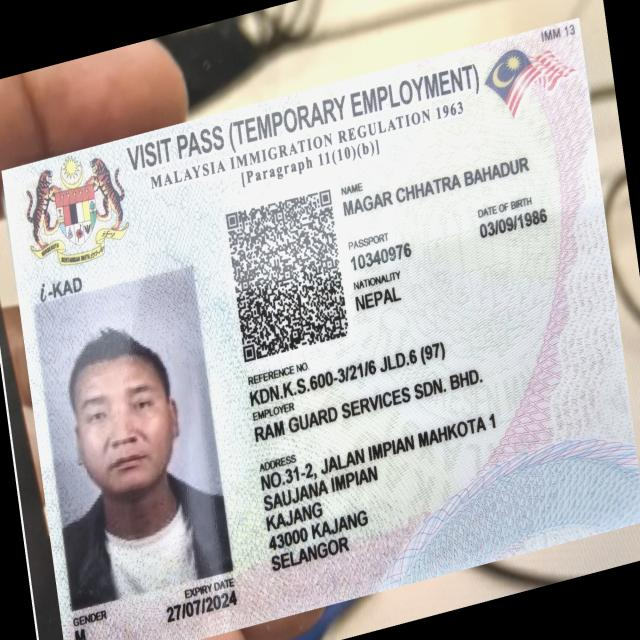ikad-temp: (1, 16, 638, 638)
